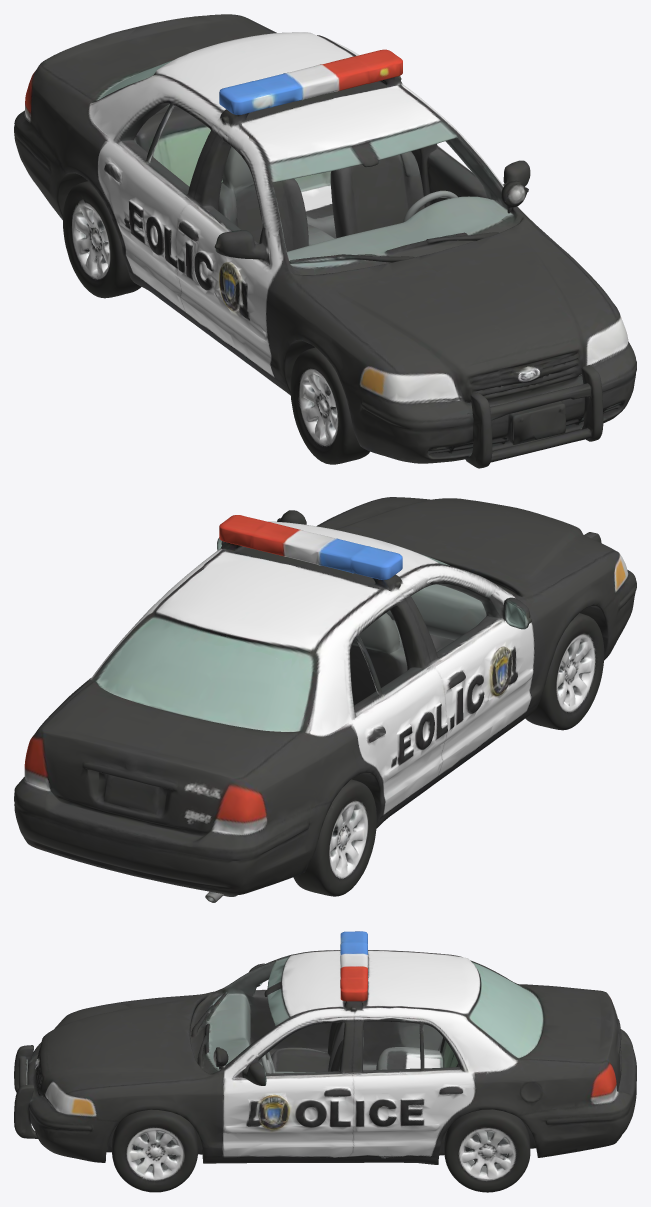
Rendered from 031_cruiser_sedan.glb.
The picture shows the model from 3 angles, top to bottom: view 1: azimuth 30°, elevation 25°; view 2: azimuth 150°, elevation 25°; view 3: azimuth 270°, elevation 25°; orthographic projection. The views are drawn at different scales.
Parts seen in each view (by area): view 1: geometry_0; view 2: geometry_0; view 3: geometry_0.
Part boxes in pixels (x1,y1,x2,y2): geometry_0: (14, 14, 636, 468); geometry_0: (14, 497, 636, 902); geometry_0: (14, 931, 636, 1192).
Bounding box in the file's own units: 2.17 × 1.7 × 5.1.
1 material, 1 textured.
